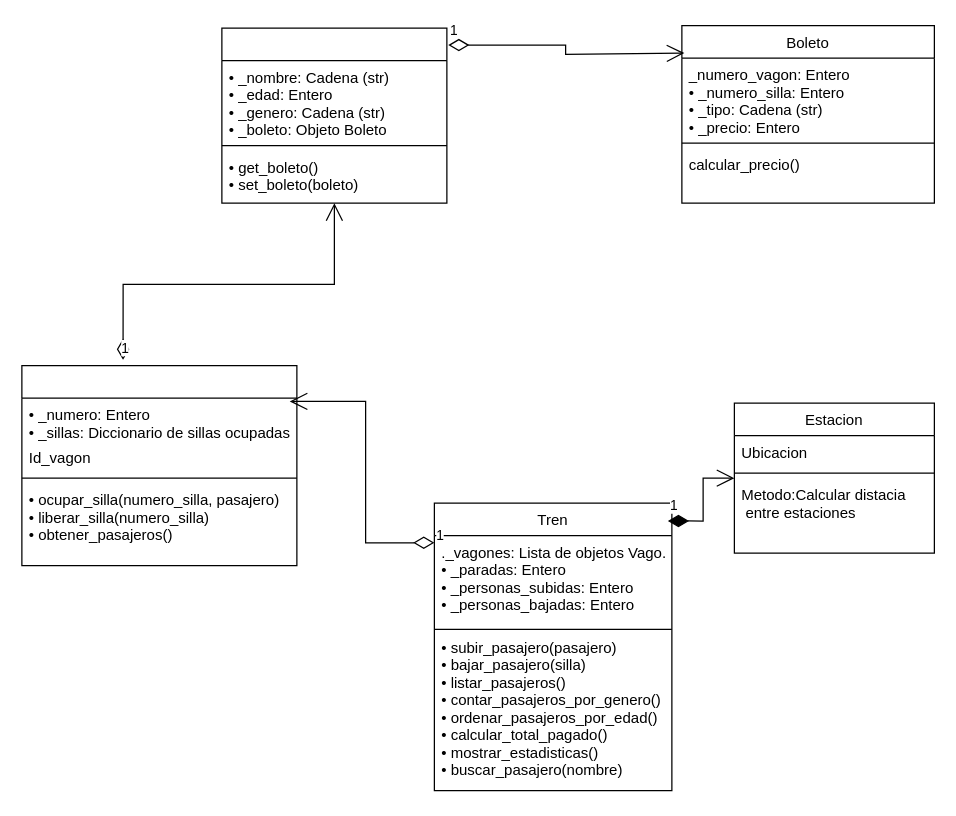
Image size: 956x816. Some labels were removed from this diagram. The shapes that lost their labels are listed below. From the top down, each one's box as (x1, y1, x2, y2) in pixels, then its label:
(221, 27, 447, 203): Pasajero
(21, 364, 297, 566): Vagones
